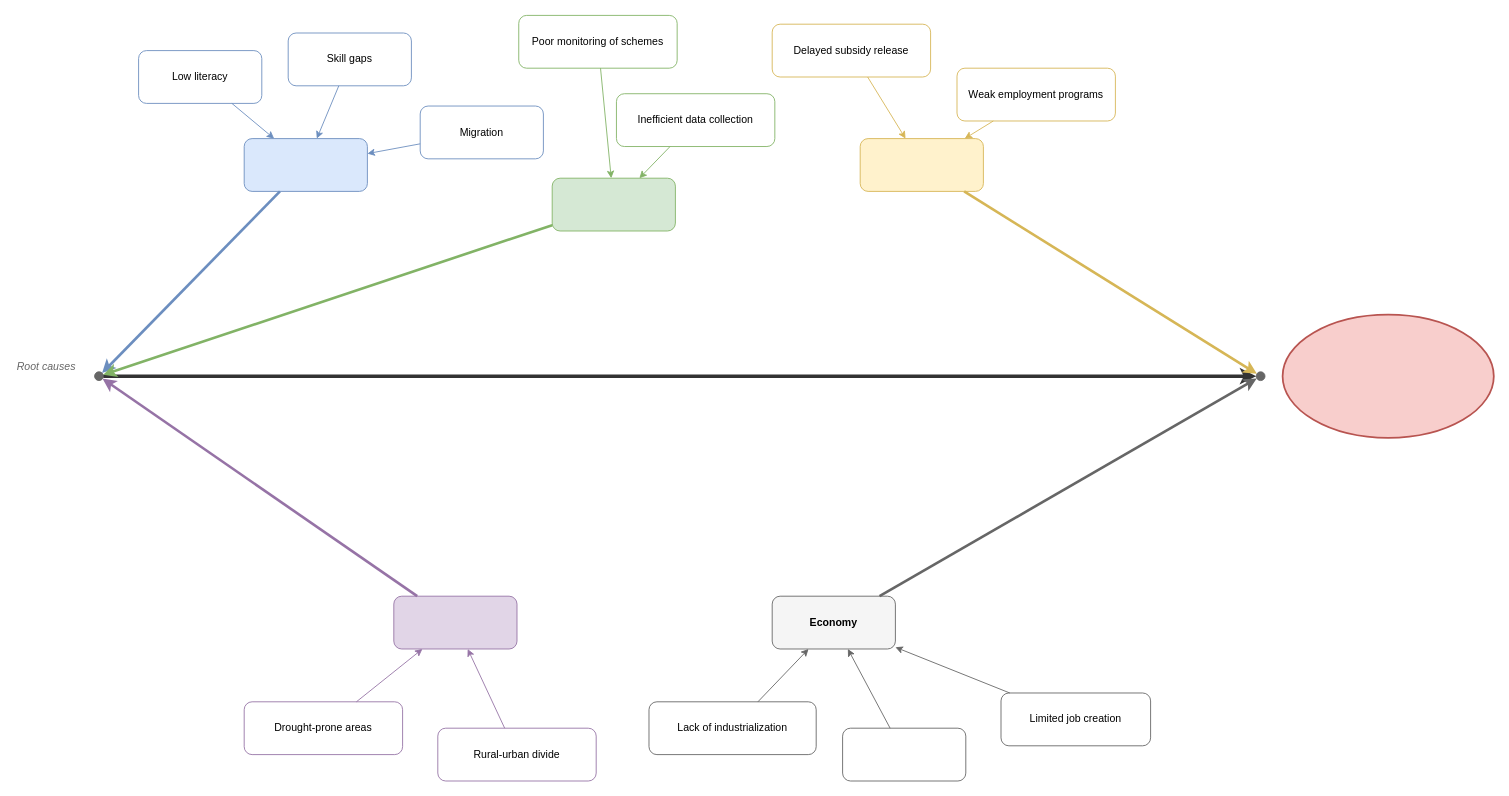
Some shapes in this 1509 by 796 pixel diagram are drawn without their labels. The shapes that lost their labels are listed below. From the top down, each one's box as (x1, y1, x2, y2) in pixels, then its label:
(243, 138, 367, 191): People
(859, 138, 983, 191): Policy
(551, 177, 675, 231): Process
(1281, 313, 1494, 438): High Poverty Rate in Chhattisgarh 39.93%
(393, 595, 517, 649): Environment
(842, 727, 966, 781): Inflation
